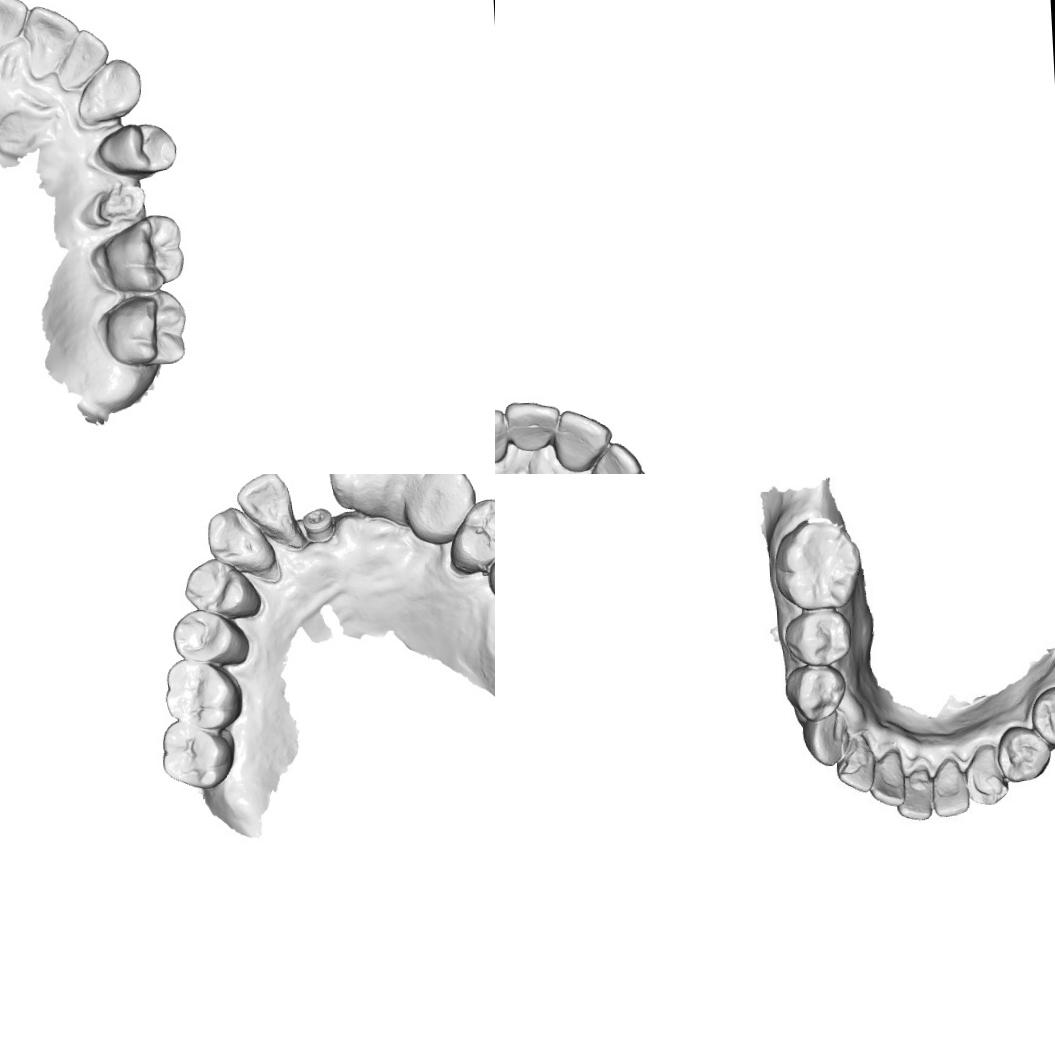canine: (202, 502, 278, 574), (74, 54, 147, 128), (402, 474, 480, 543), (797, 704, 851, 772), (962, 742, 1012, 807)
implant_plus: (300, 502, 337, 545)
incisor: (550, 405, 615, 474), (23, 1, 80, 71), (233, 474, 294, 536), (56, 26, 110, 92), (502, 397, 562, 456), (929, 761, 975, 818), (834, 737, 878, 794), (892, 766, 934, 820), (585, 439, 644, 474), (867, 756, 905, 806), (323, 474, 387, 502), (378, 474, 435, 503), (0, 0, 28, 51), (495, 407, 509, 466)
molar: (773, 516, 862, 612), (95, 212, 190, 297), (98, 288, 190, 370), (161, 655, 242, 731), (158, 718, 237, 792)
premolar: (92, 116, 180, 181), (178, 554, 262, 621), (169, 606, 251, 668), (781, 607, 850, 669), (443, 495, 495, 576), (785, 657, 844, 723), (995, 723, 1052, 786), (1027, 682, 1055, 747)
